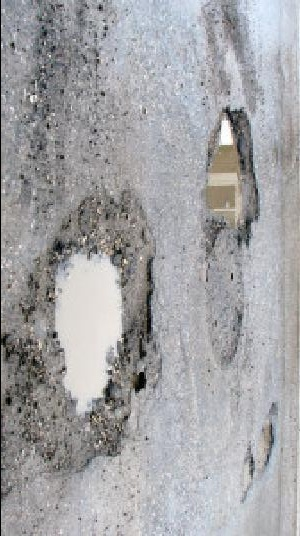pothole: (1, 188, 161, 475), (201, 102, 262, 259), (255, 402, 281, 470), (238, 445, 256, 503)
